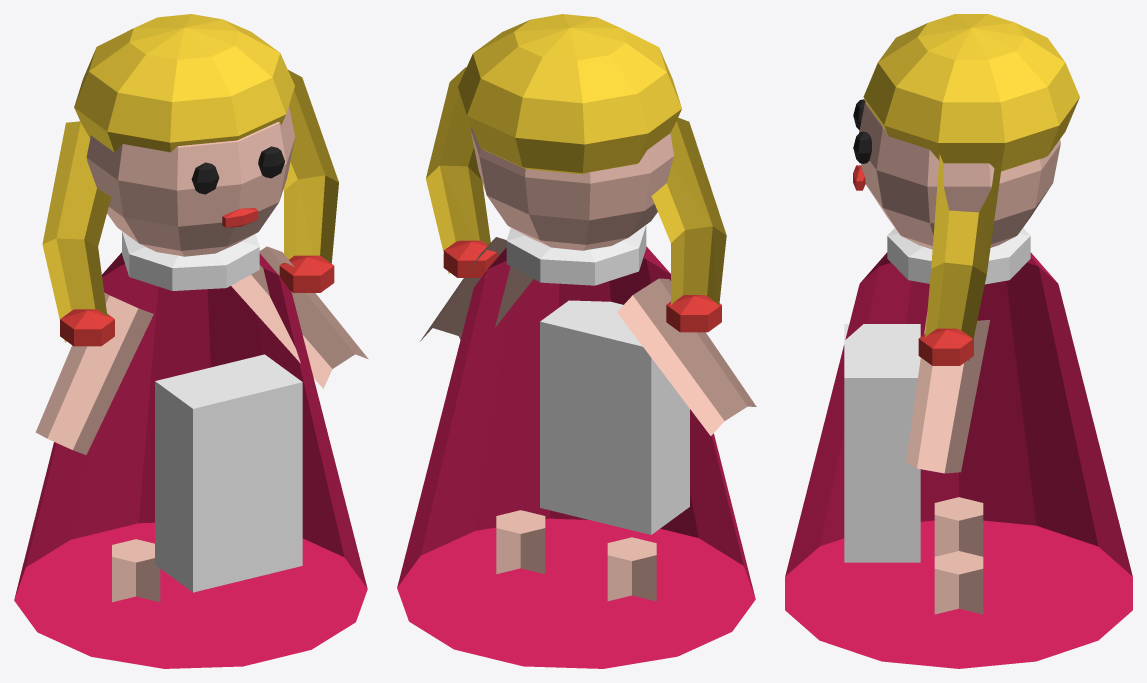
File: docka.glb
The picture shows the model from 3 angles, left to right: view 1: azimuth 30°, elevation 25°; view 2: azimuth 150°, elevation 25°; view 3: azimuth 270°, elevation 25°; orthographic projection.
Parts seen in each view (by area): view 1: docka; view 2: docka; view 3: docka.
Boxes of the visible parts, bbox=[...] form: docka: bbox=[14, 14, 368, 668]; docka: bbox=[397, 14, 756, 668]; docka: bbox=[785, 14, 1132, 668].
Bounding box in the file's own units: 0.2914 × 0.49 × 0.273.
